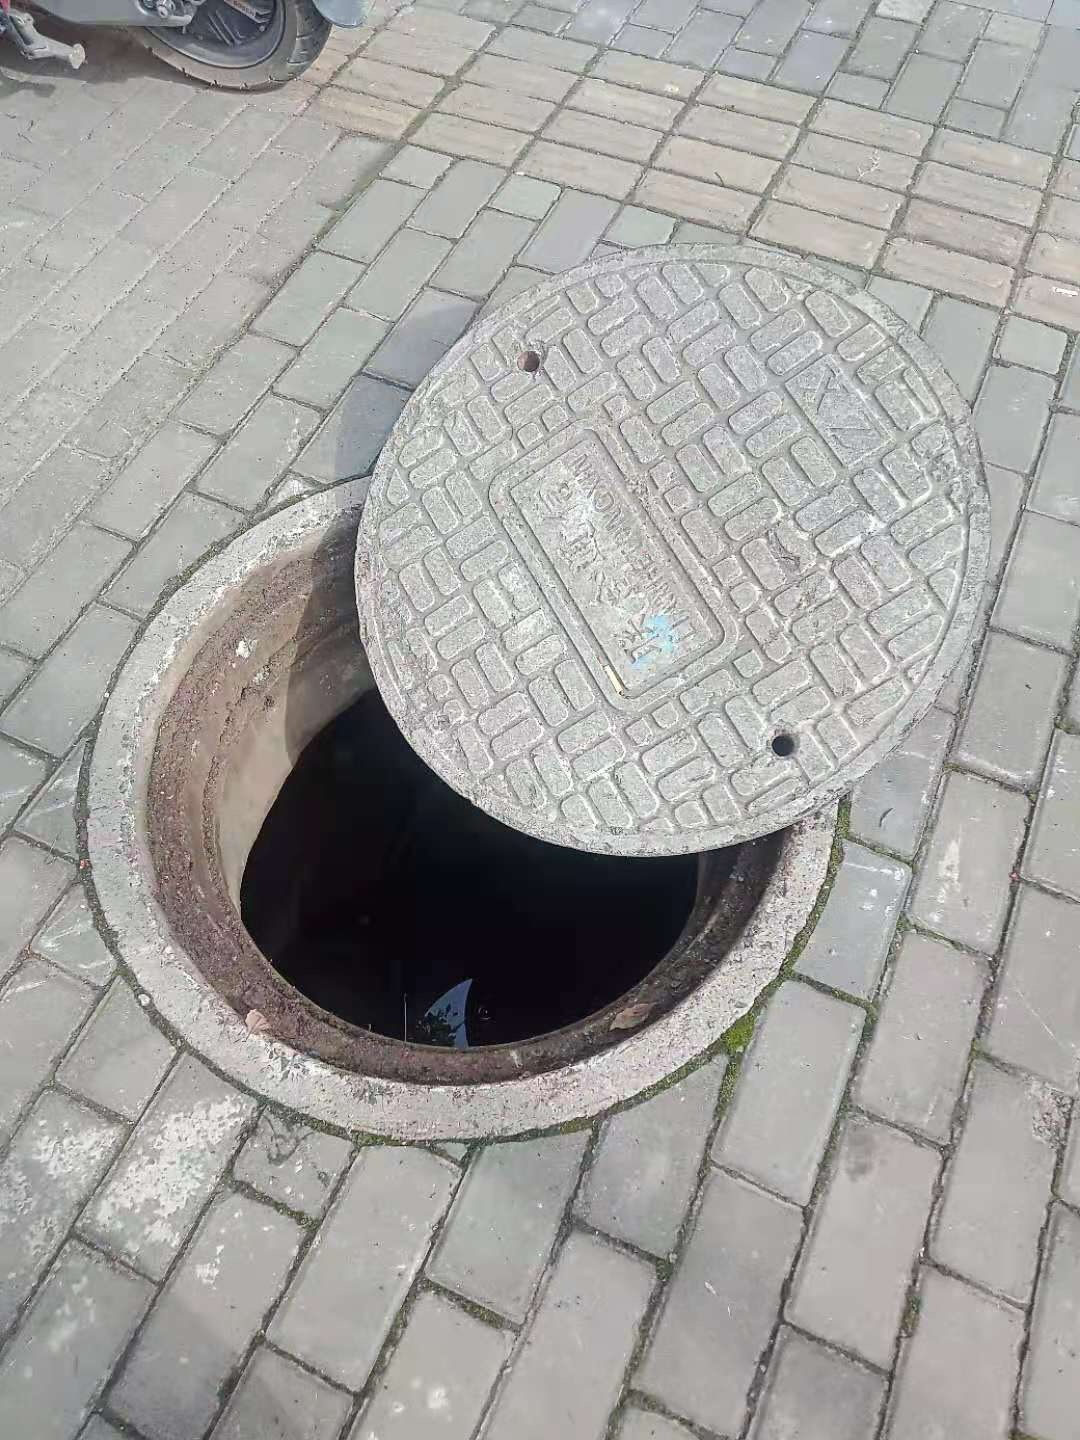well: (70, 207, 1071, 1157), (6, 1, 328, 88)
